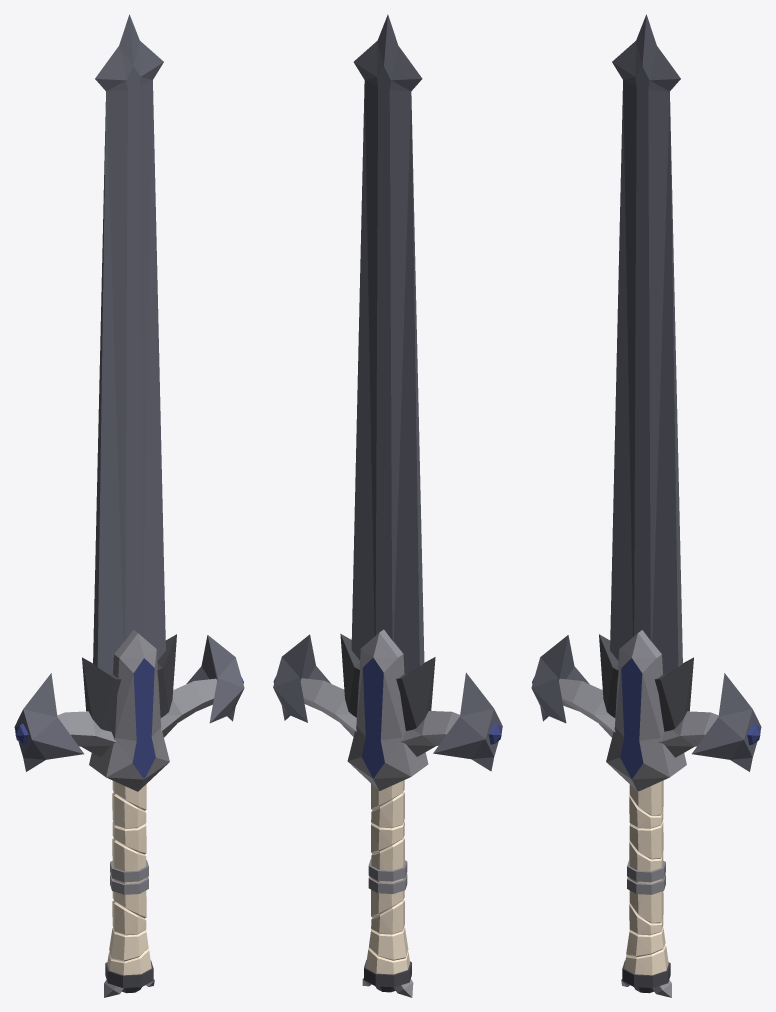
File: _sword_16.fbx
3 renders of one model, left to right at view 1: azimuth 30°, elevation 25°; view 2: azimuth 150°, elevation 25°; view 3: azimuth 330°, elevation 25°, orthographic.
Parts seen in each view (by area): view 1: sword_16; view 2: sword_16; view 3: sword_16.
Boxes of the visible parts, left/top/right/bottom form: sword_16: left=14, top=14, right=244, bottom=997; sword_16: left=273, top=14, right=502, bottom=997; sword_16: left=531, top=14, right=761, bottom=997.
Size of the model in its own units: 34.46 by 142 by 9.18.
